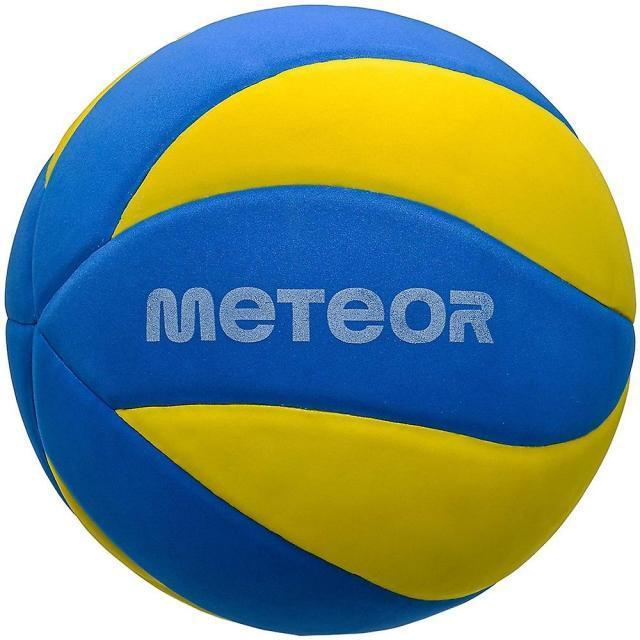volleyball: (5, 5, 636, 638)
